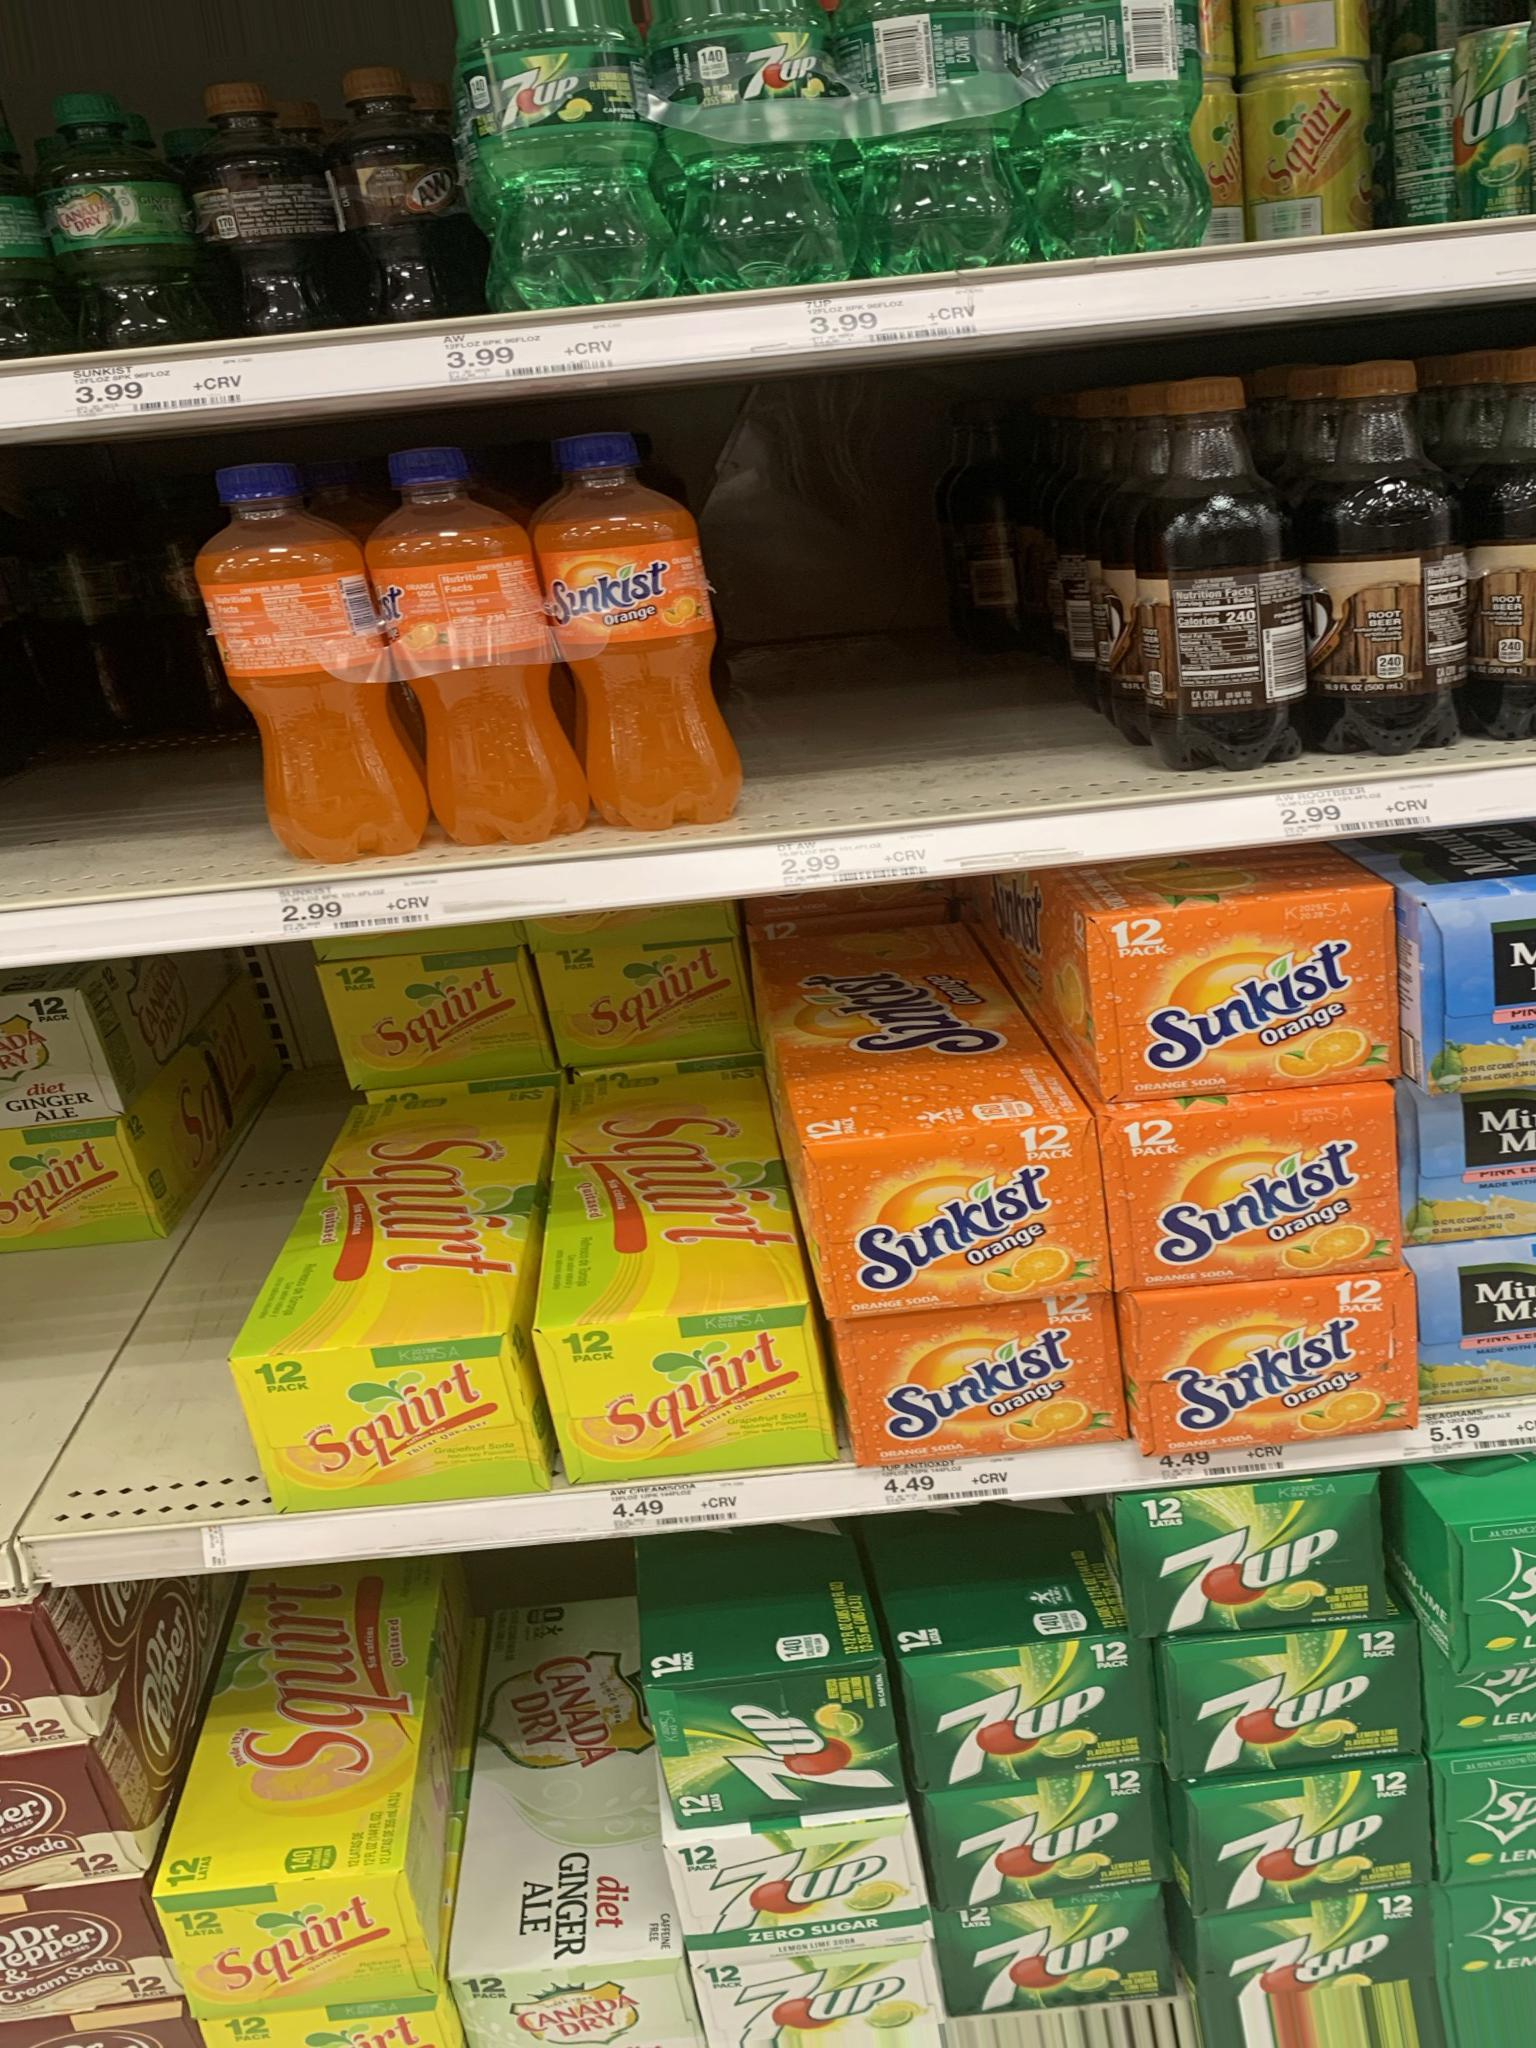soda: (210, 472, 697, 858), (1071, 381, 1536, 777), (223, 1347, 545, 1511), (1102, 1113, 1400, 1279), (1097, 906, 1391, 1072), (1129, 1293, 1420, 1442), (820, 1143, 1099, 1288), (549, 1329, 833, 1467), (1121, 1490, 1376, 1634), (668, 1825, 921, 1967), (1187, 1780, 1431, 1896), (1175, 1651, 1423, 1764), (928, 1793, 1175, 1888)
